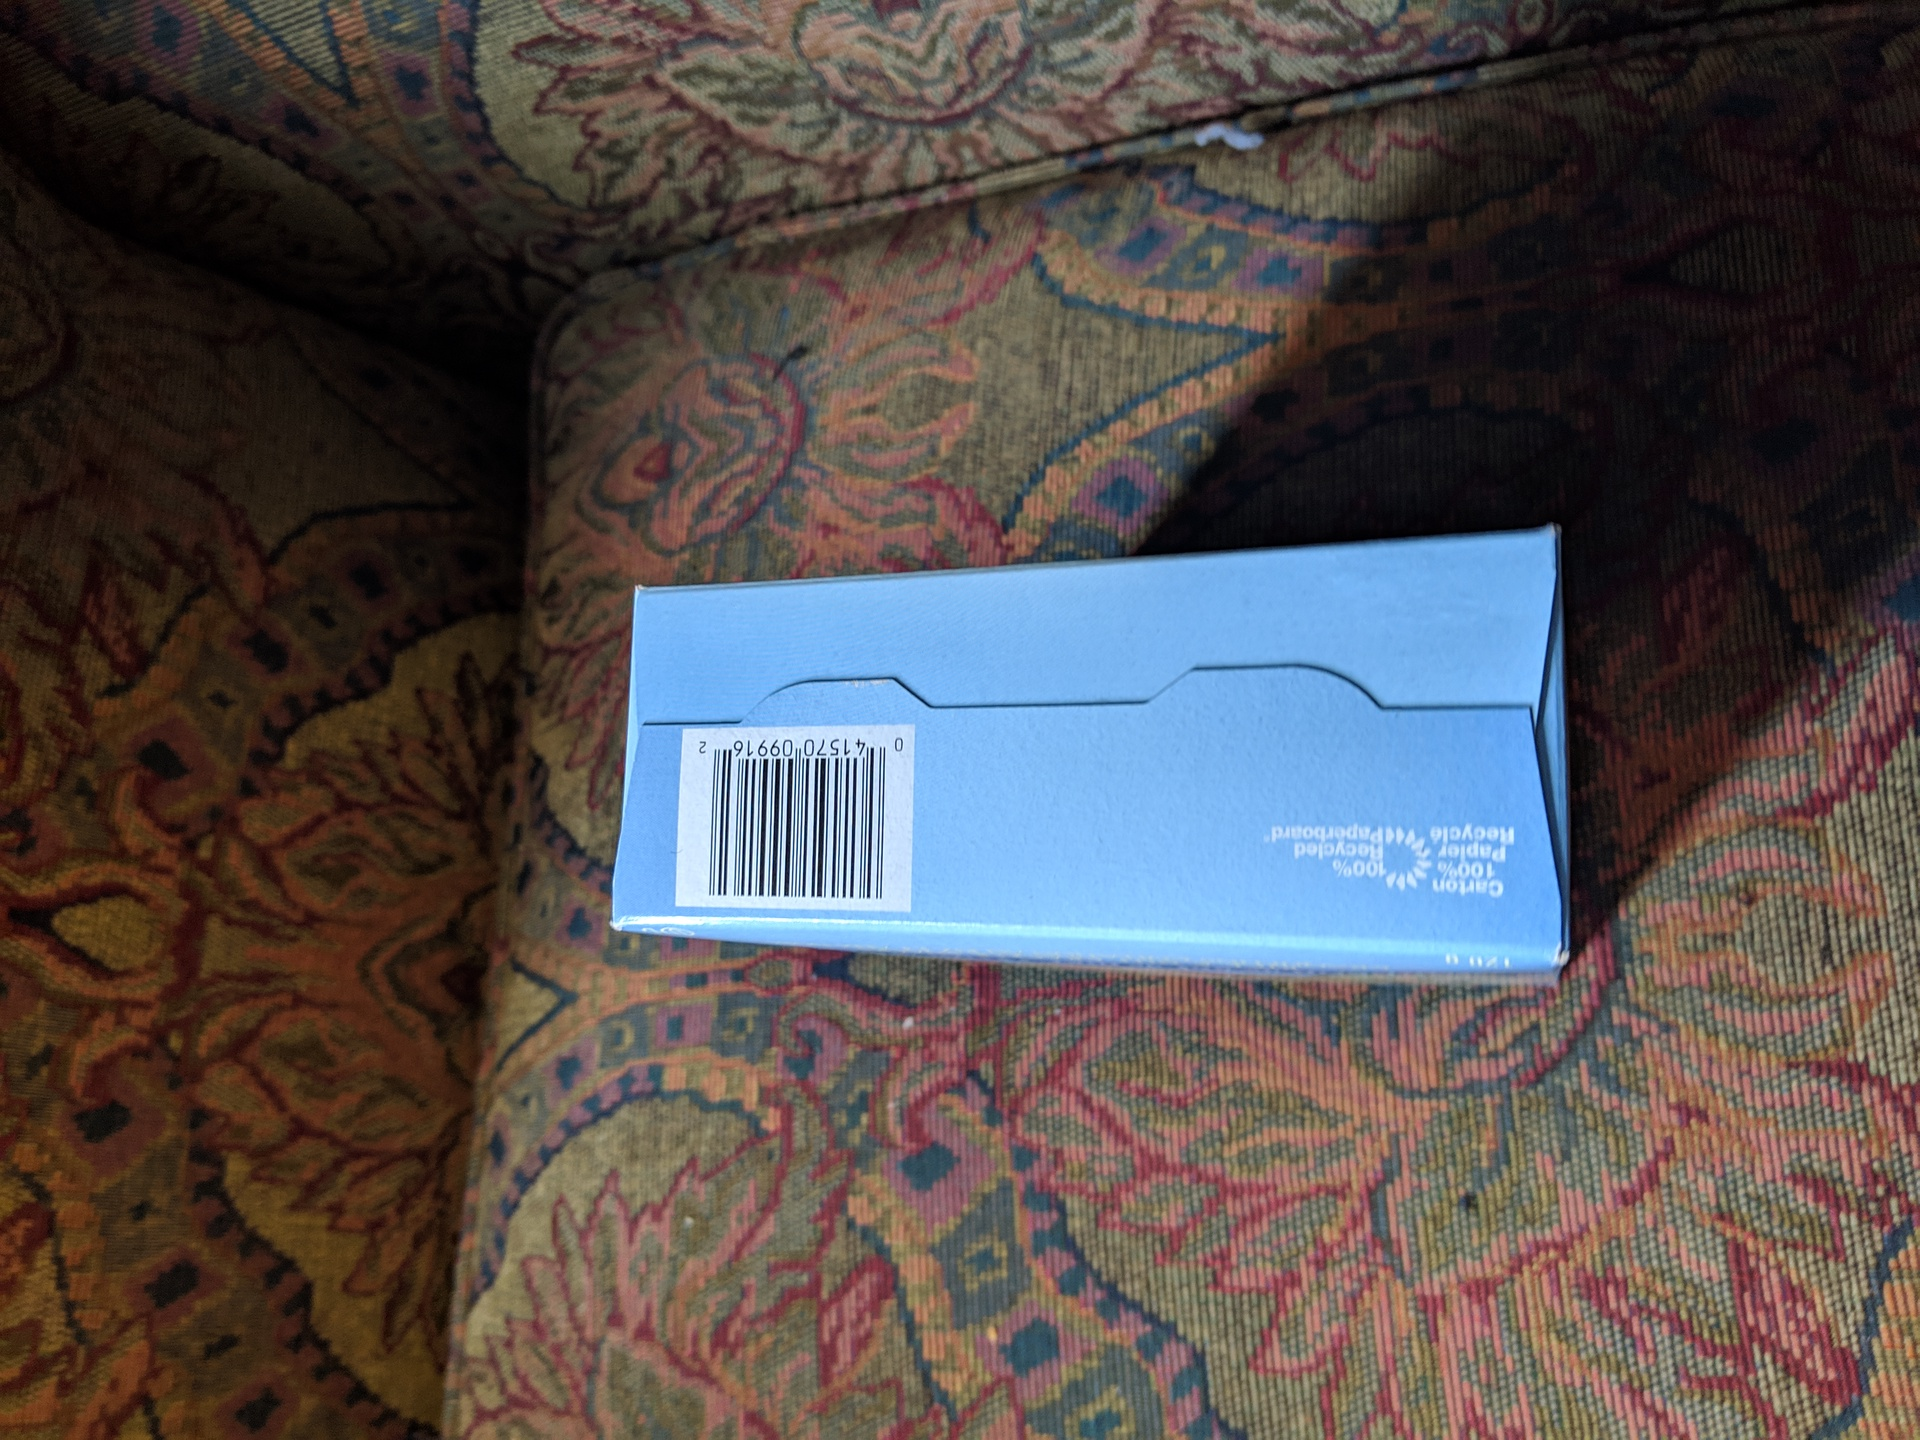blue_diamond_nut_thins_almond_seasalt: (632, 587, 1565, 942)
